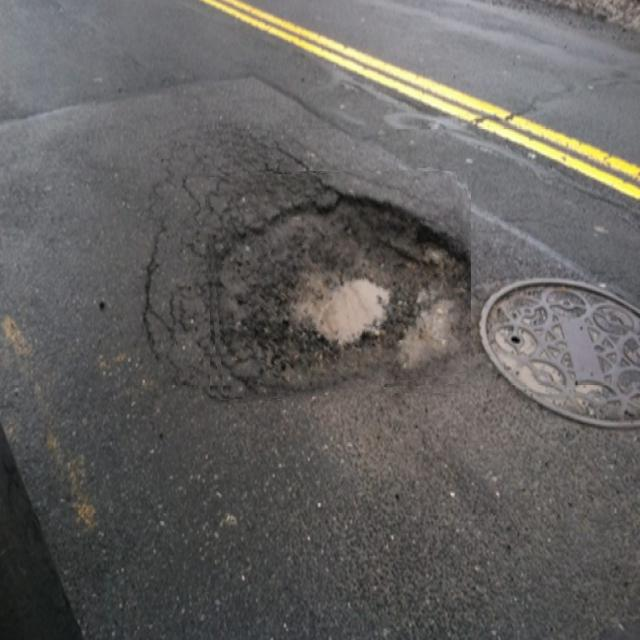Pothole: (205, 171, 471, 400)
